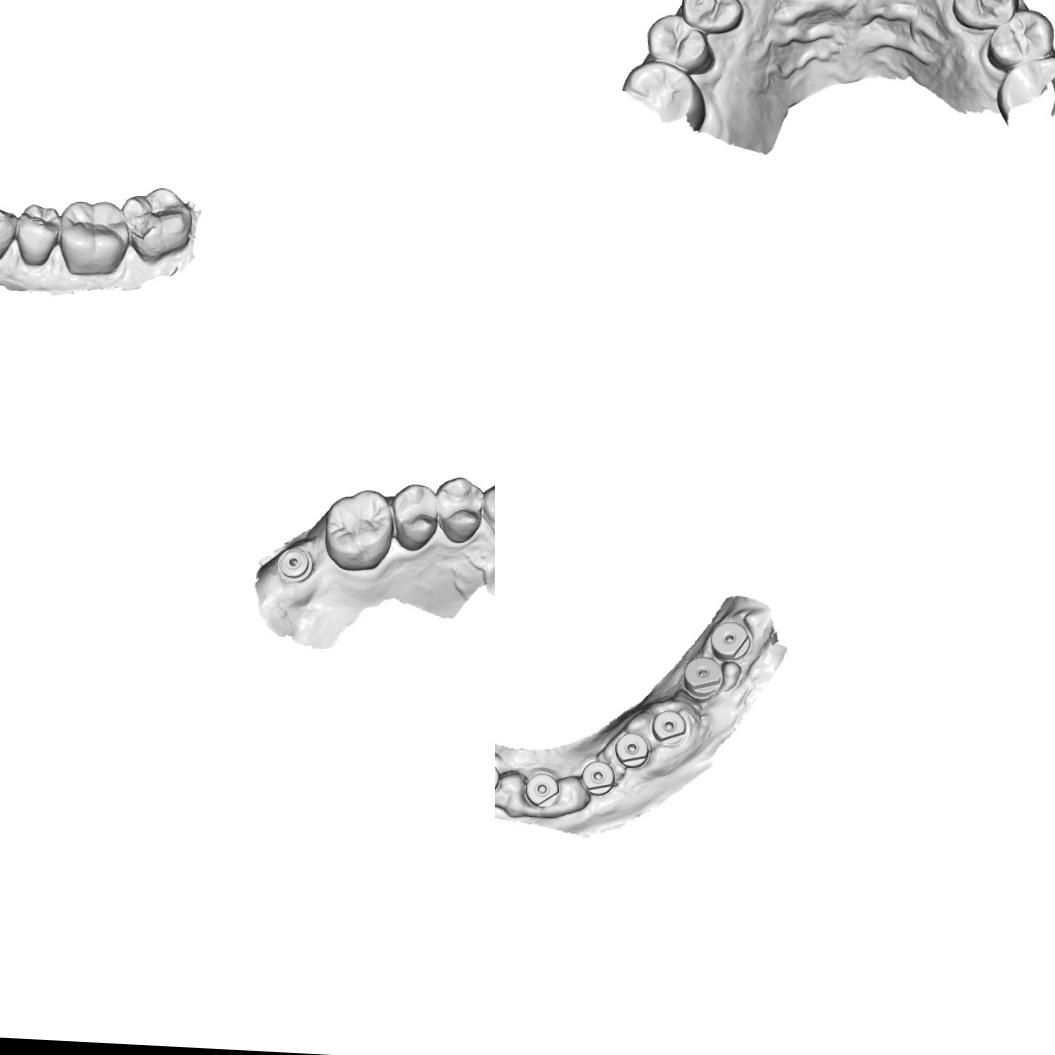canine: (477, 474, 495, 546)
implant: (708, 616, 751, 664), (681, 652, 727, 696), (274, 542, 317, 588), (521, 768, 564, 812), (647, 705, 690, 746), (612, 732, 653, 774), (580, 760, 622, 800)
molar: (319, 484, 397, 574), (119, 184, 194, 264), (56, 198, 131, 278)
premolar: (982, 4, 1055, 76), (642, 9, 716, 77), (431, 472, 489, 548), (384, 478, 442, 552), (15, 201, 62, 267), (675, 0, 745, 36), (948, 0, 1018, 33), (0, 205, 18, 263)
